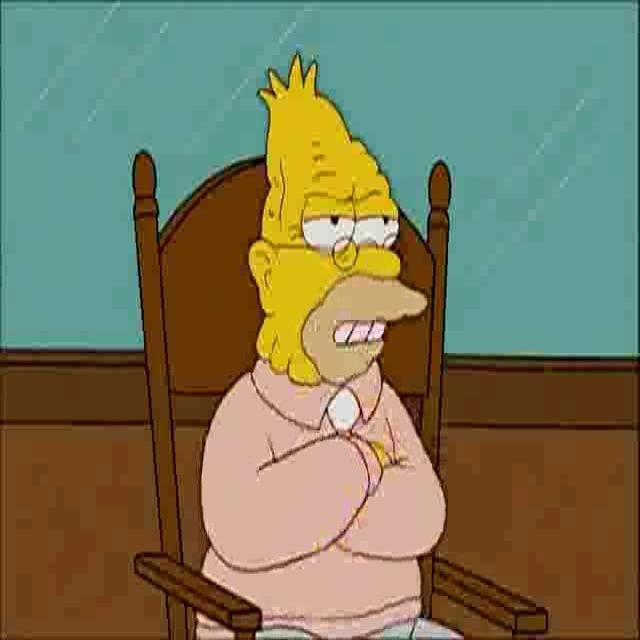Abraham Grampa Simpson: (248, 48, 430, 390)
